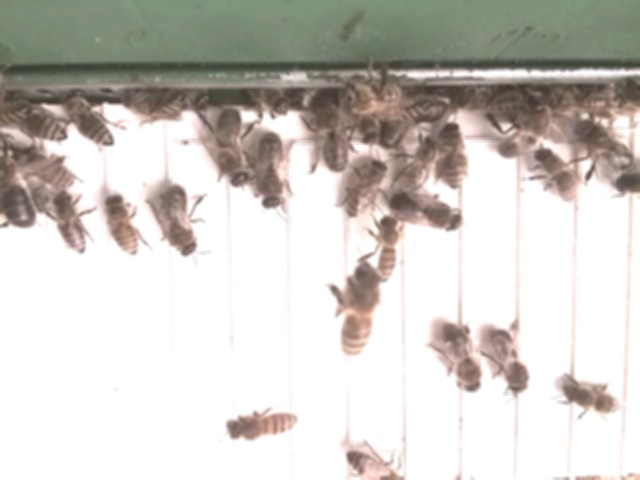Drone: (385, 189, 468, 236), (570, 117, 637, 175), (312, 93, 353, 176), (440, 323, 484, 397), (158, 183, 200, 260), (214, 108, 252, 191), (490, 328, 531, 400), (254, 134, 288, 214)
Worker: (339, 268, 381, 359), (66, 94, 115, 149), (103, 192, 143, 259), (536, 149, 579, 209), (10, 105, 72, 146), (347, 161, 390, 220), (223, 410, 300, 442), (401, 137, 441, 195), (54, 192, 89, 258), (25, 148, 77, 191), (440, 124, 471, 191), (343, 449, 410, 480), (371, 217, 399, 286), (564, 385, 624, 417)
